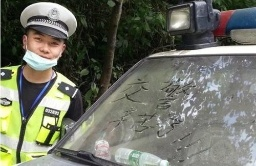noWear: (20, 33, 65, 71)
